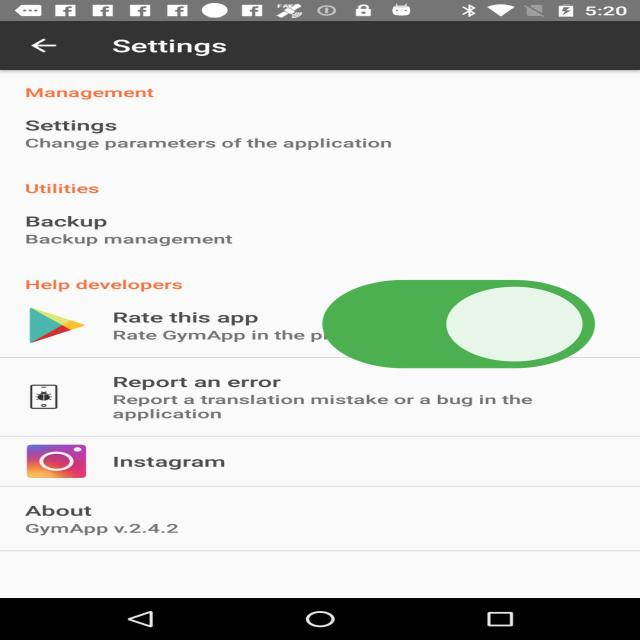social proof: (310, 246, 607, 409)
